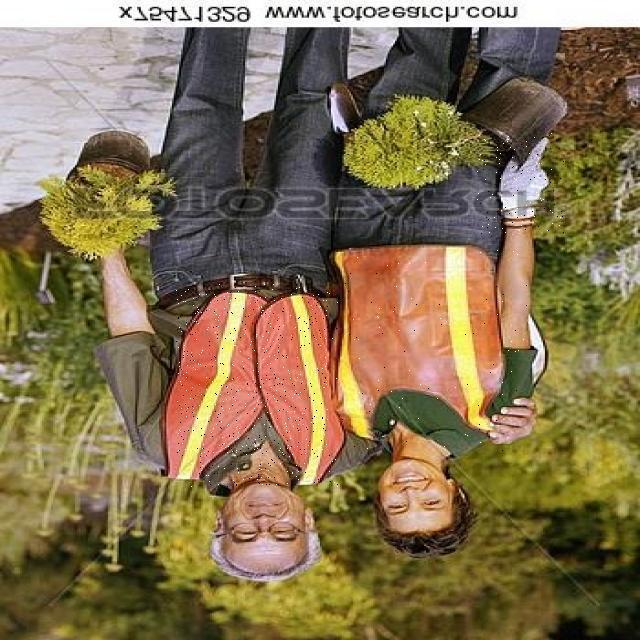Gloves: (493, 138, 562, 228)
Vest: (156, 288, 346, 495), (336, 242, 514, 459)
